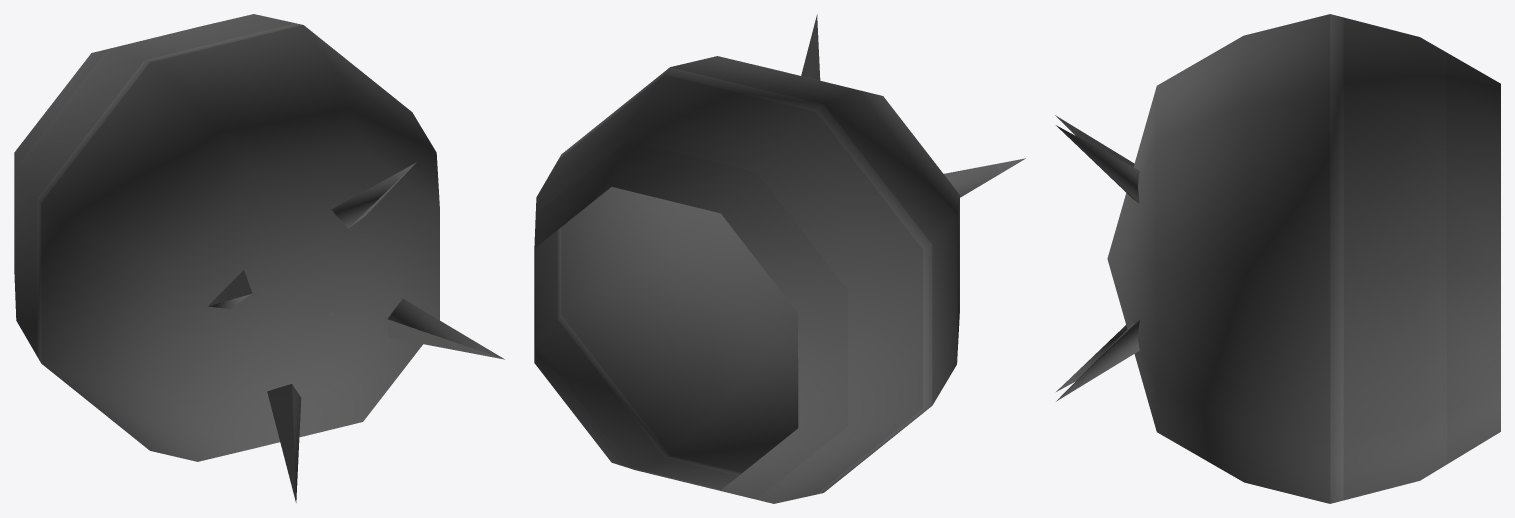
Rendered from stat_top1.glb.
3 views of the same model, side by side, from view 1: azimuth 30°, elevation 25°; view 2: azimuth 150°, elevation 25°; view 3: azimuth 270°, elevation 25° (orthographic). The views are drawn at different scales.
Parts seen in each view (by area): view 1: group_19; view 2: group_19; view 3: group_19.
Boxes of the visible parts, x1,y1,x2,y2 form: group_19: (14, 14, 504, 502); group_19: (534, 14, 1025, 503); group_19: (1055, 14, 1500, 503).
Size of the model in its own units: 10652 by 10652 by 10483.
2 materials, 2 textured.
